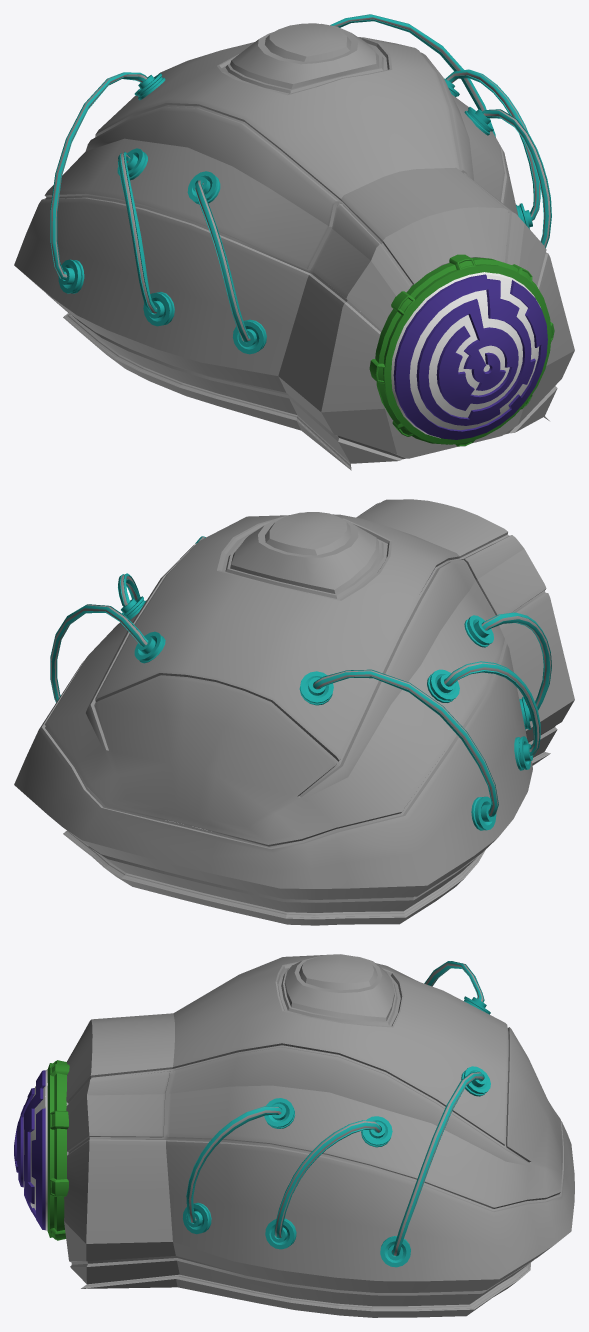
The model's file is nexus_mesh.FBX.
3 renders of one model, top to bottom at view 1: azimuth 30°, elevation 25°; view 2: azimuth 150°, elevation 25°; view 3: azimuth 270°, elevation 25°, orthographic. The views are drawn at different scales.
Parts seen in each view (by area): view 1: Nexus, Nexus_Roue, Nexus_Cables, Nexus_Emissive, Nexus_RoueEmissive, Nexus_Accroche; view 2: Nexus, Nexus_Cables, Nexus_Emissive; view 3: Nexus, Nexus_Cables, Nexus_Emissive, Nexus_Accroche, Nexus_Roue, Nexus_RoueEmissive.
Boxes of the visible parts, x1,y1,x2,y2 form: Nexus: (14, 23, 574, 470); Nexus_Roue: (393, 274, 547, 439); Nexus_Cables: (50, 14, 551, 354); Nexus_Emissive: (45, 14, 550, 459); Nexus_RoueEmissive: (391, 272, 540, 438); Nexus_Accroche: (369, 254, 554, 446); Nexus: (14, 499, 574, 925); Nexus_Cables: (50, 536, 551, 830); Nexus_Emissive: (45, 528, 555, 899); Nexus: (64, 954, 574, 1317); Nexus_Cables: (182, 961, 490, 1267); Nexus_Emissive: (66, 963, 559, 1292); Nexus_Accroche: (47, 1060, 69, 1240); Nexus_Roue: (14, 1070, 45, 1230); Nexus_RoueEmissive: (23, 1069, 47, 1230).
Size of the model in its own units: 3254 by 2160 by 3921.
